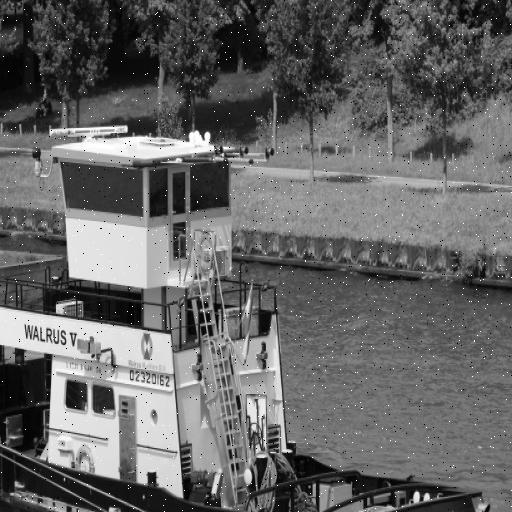tugboat: (1, 117, 504, 512)
